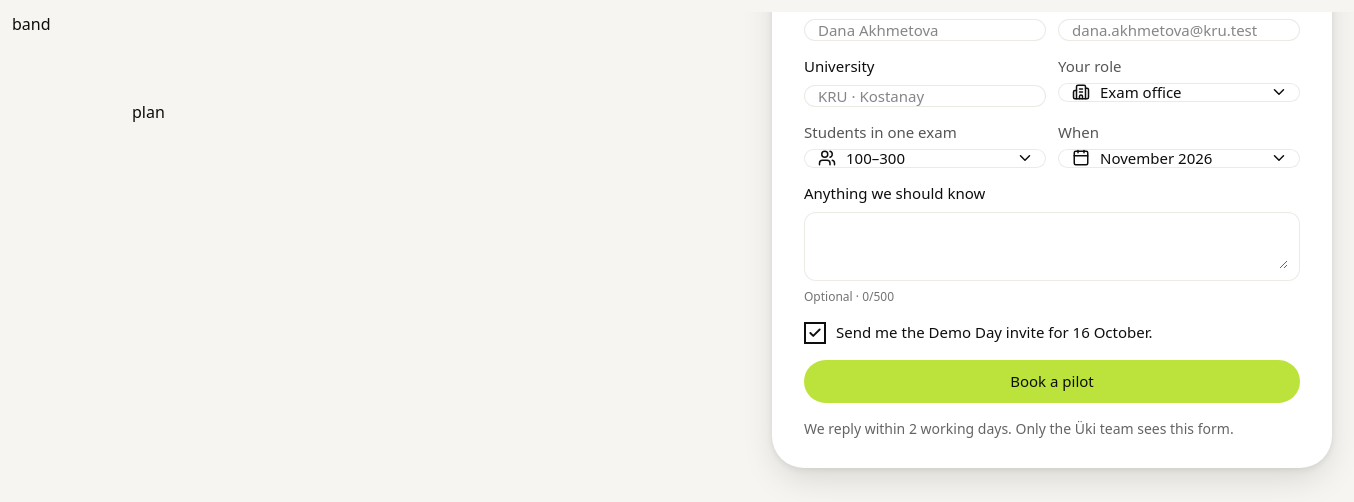
Test case: /pilot › counts the message as it is typed
This screenshot has width=1354, height=502.
In the text box labelled "Anything we should know": coordinates (1053, 246) 818,224 -> 1288,269, type "Four groups."
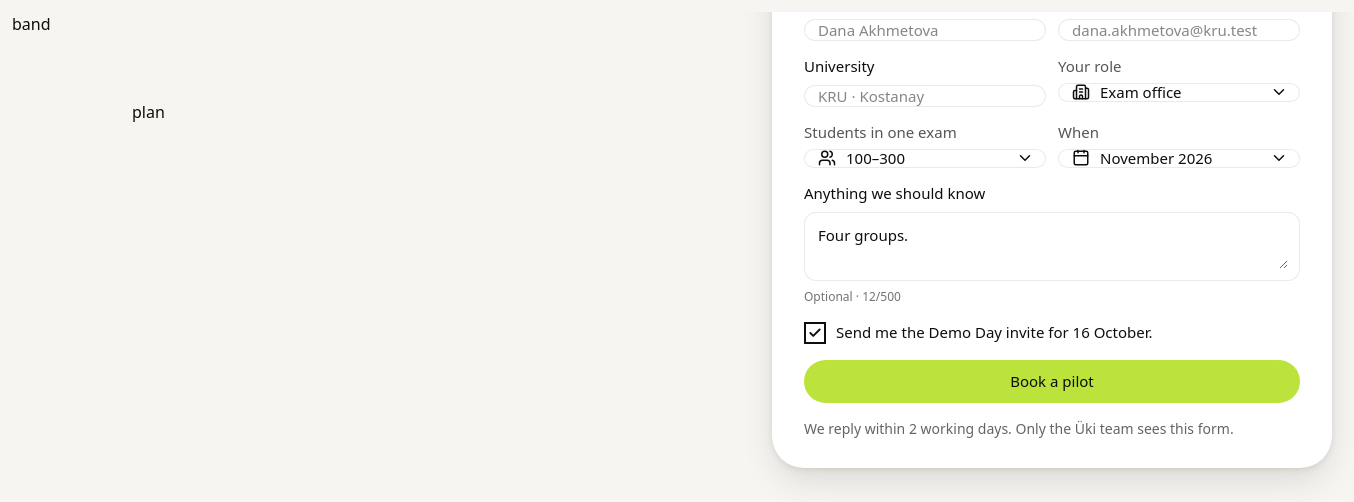
Expected: the text "Optional · 12/500" is shown, 804,289 -> 901,306
